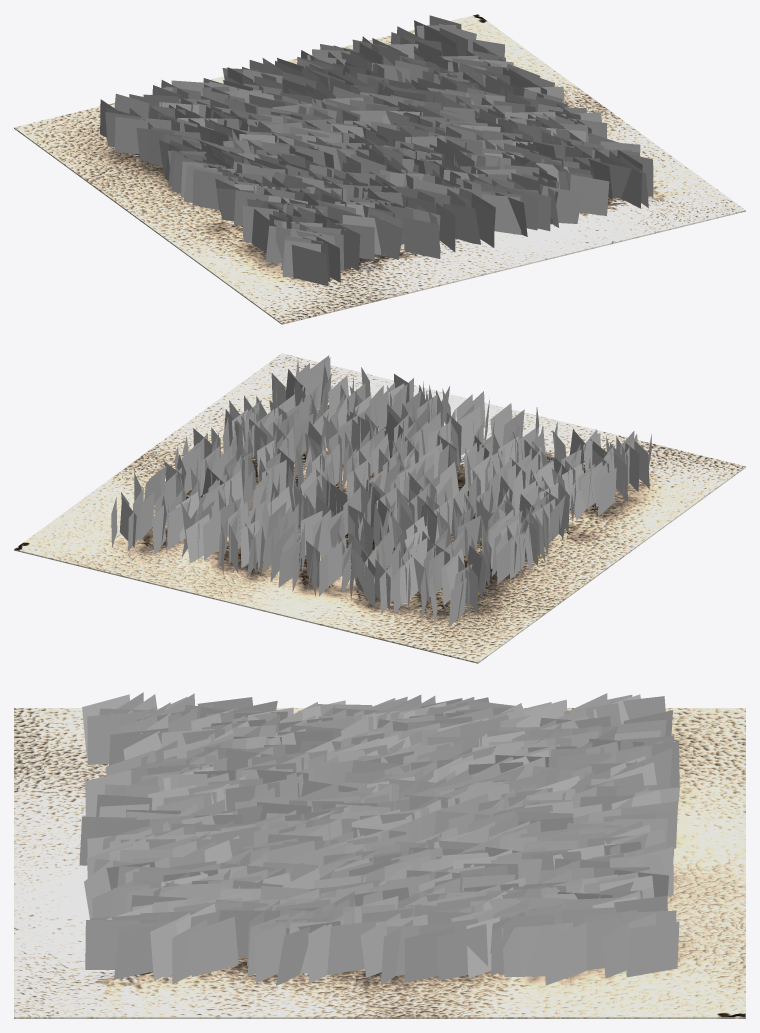
Rendered from Growing.fbx.
3 renders of one model, top to bottom at view 1: azimuth 30°, elevation 25°; view 2: azimuth 150°, elevation 25°; view 3: azimuth 270°, elevation 25°, orthographic. The views are drawn at different scales.
Parts seen in each view (by area): view 1: sproutBillboardsParticles; view 2: sproutBillboardsParticles; view 3: sproutBillboardsParticles.
Part boxes in pixels (x1,y1,x2,y2): sproutBillboardsParticles: [14, 14, 745, 324]; sproutBillboardsParticles: [14, 353, 745, 663]; sproutBillboardsParticles: [14, 692, 745, 1018].
Bounding box in the file's own units: 400 × 34.64 × 400.
